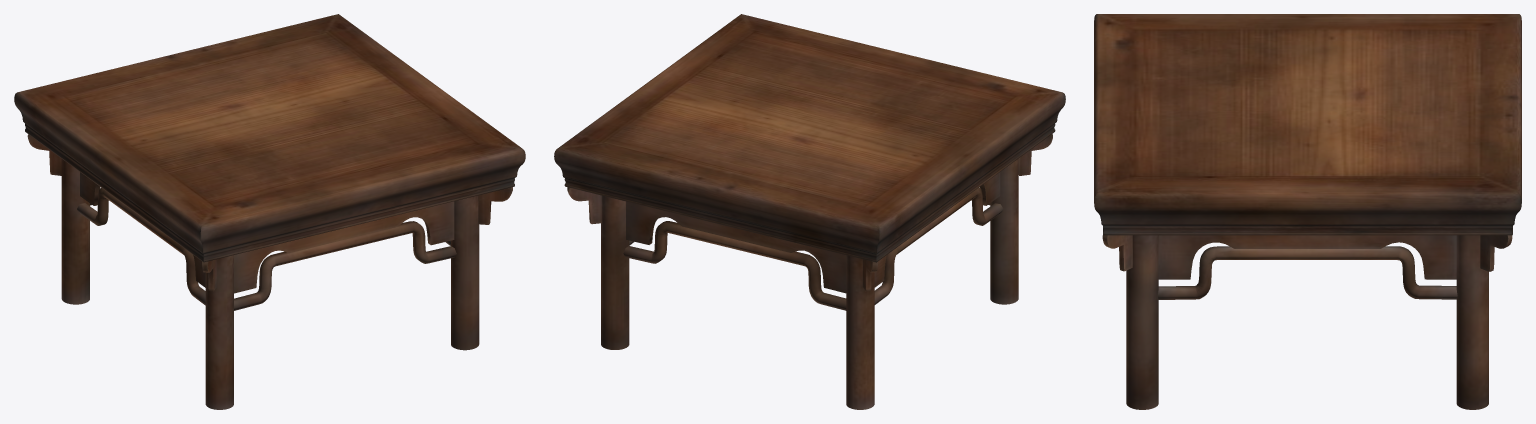
Rendered from tea_table.glb.
The picture shows the model from 3 angles, left to right: view 1: azimuth 30°, elevation 25°; view 2: azimuth 150°, elevation 25°; view 3: azimuth 270°, elevation 25°; orthographic projection. The views are drawn at different scales.
Parts seen in each view (by area): view 1: chinese_tea_table; view 2: chinese_tea_table; view 3: chinese_tea_table.
Boxes of the visible parts, x1,y1,x2,y2 form: chinese_tea_table: (14, 14, 525, 409); chinese_tea_table: (554, 14, 1065, 409); chinese_tea_table: (1094, 14, 1521, 409).
Bounding box in the file's own units: 0.8413 × 0.4987 × 0.8357.
Materials: 1 (1 with a texture image).
